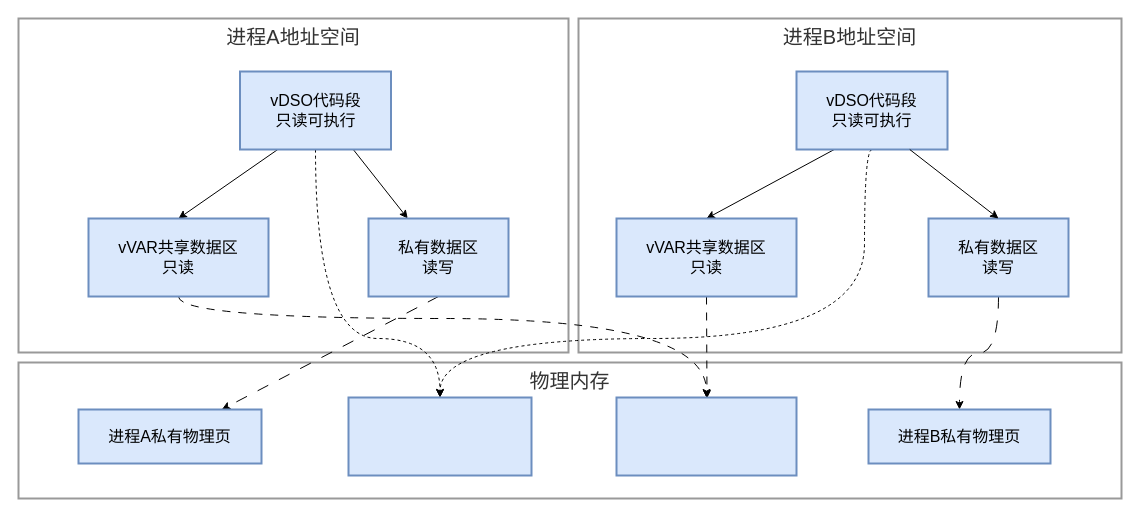
Image size: 1139x516. Some labels were removed from this diagram. The shapes that lost their labels are listed below. From the top down, each one's centre as x and y in pixels, then its label:
At (x=439, y=436): "vDSO代码物理页 所有进程共享".
At (x=706, y=436): "vVAR数据物理页 所有进程共享".
